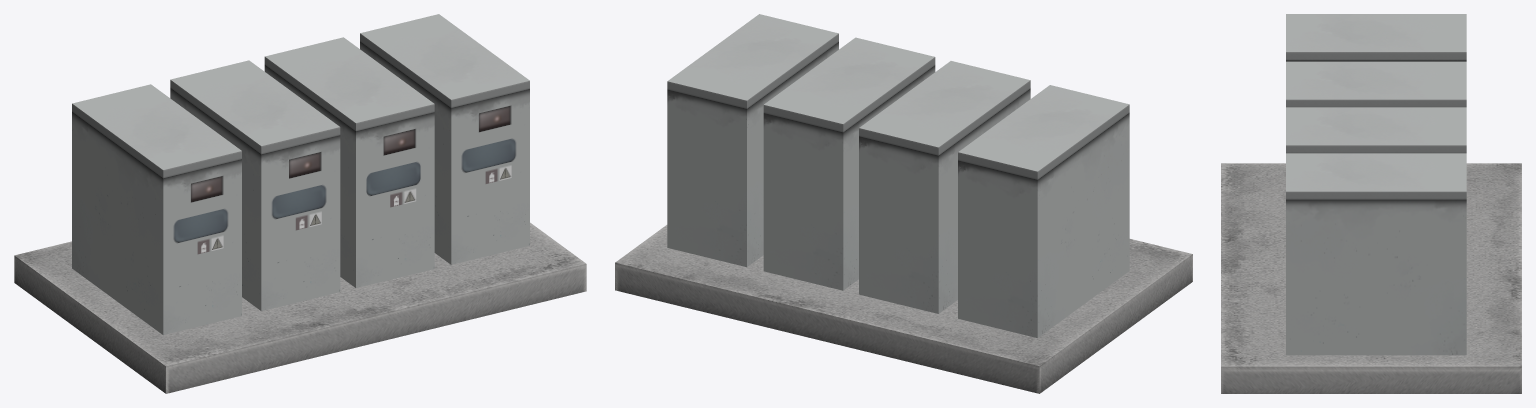
File: BgMD_StandOutdoorUnit_01_01.fbx
The picture shows the model from 3 angles, left to right: view 1: azimuth 30°, elevation 25°; view 2: azimuth 150°, elevation 25°; view 3: azimuth 270°, elevation 25°; orthographic projection.
Parts seen in each view (by area): view 1: pCube211; view 2: pCube211; view 3: pCube211.
Boxes of the visible parts, left/top/right/bottom form: pCube211: left=14, top=14, right=586, bottom=393; pCube211: left=615, top=14, right=1192, bottom=393; pCube211: left=1221, top=14, right=1521, bottom=393.
Size of the model in its own units: 800 by 350 by 500.
Materials: 1 (1 with a texture image).
